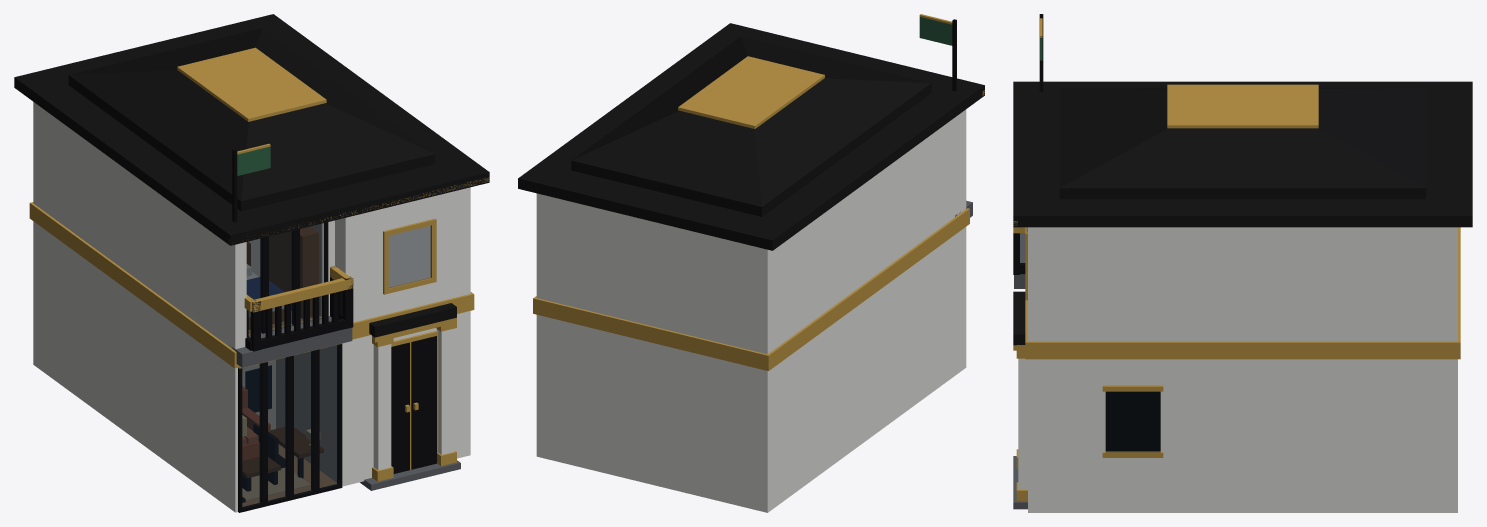
File: rumah-tipe6.glb
3 views of the same model, side by side, from view 1: azimuth 30°, elevation 25°; view 2: azimuth 150°, elevation 25°; view 3: azimuth 270°, elevation 25° (orthographic). The views are drawn at different scales.
Parts seen in each view (by area): view 1: Body_F1_Left, RoofFrustum, RoofSlab1, Body_F2_LB_Left, Body_F2_Right, Body_F1_Right, RoofCapGold, LR_WallR, RoofSlab2, Band_Left, Door_LeafR, FrontGlass_1 (+32 smaller); view 2: Body_F1_Left, RoofFrustum, RoofSlab1, Body_F2_LB_Left, Body_F1_Right, Body_F1_Back, Body_F2_Right, Body_F2_LB_Back, RoofCapGold, Band_Back, RoofSlab2, Band_Left (+3 smaller); view 3: Body_F1_Right, Body_F2_Right, RoofFrustum, RoofSlab1, Band_Right, RoofCapGold, RoofSlab2, SideWin_Backing, SideWin_Glass, Column_1, Canopy.
Part boxes in pixels (x1,y1,x2,y2): Body_F1_Left: (33, 221, 237, 512); RoofFrustum: (69, 27, 434, 201); RoofSlab1: (14, 14, 489, 245); Body_F2_LB_Left: (33, 102, 224, 343); Body_F2_Right: (335, 187, 470, 322); Body_F1_Right: (342, 311, 470, 486); RoofCapGold: (177, 47, 326, 121); LR_WallR: (276, 345, 336, 482); RoofSlab2: (68, 75, 435, 211); Band_Left: (31, 204, 234, 366); Door_LeafR: (411, 336, 436, 469); FrontGlass_1: (268, 357, 287, 501); Body_F1_Left: (765, 227, 966, 512); RoofFrustum: (571, 36, 931, 206); RoofSlab1: (518, 23, 984, 250); Body_F2_LB_Left: (756, 117, 955, 354); Body_F1_Right: (536, 315, 663, 487); Body_F1_Back: (664, 346, 764, 512); Body_F2_Right: (536, 193, 659, 327); Body_F2_LB_Back: (670, 226, 756, 351); RoofCapGold: (678, 56, 824, 128); Band_Back: (533, 297, 769, 370); RoofSlab2: (571, 83, 931, 216); Band_Left: (769, 209, 968, 369); Body_F1_Right: (1028, 359, 1457, 512); Body_F2_Right: (1028, 227, 1457, 341); RoofFrustum: (1059, 87, 1426, 188); RoofSlab1: (1013, 81, 1472, 227); Band_Right: (1028, 341, 1457, 359); RoofCapGold: (1167, 84, 1318, 128); RoofSlab2: (1059, 188, 1426, 199); SideWin_Backing: (1105, 391, 1160, 451); SideWin_Glass: (1106, 392, 1160, 452); Column_1: (1018, 358, 1027, 489); Canopy: (1013, 291, 1025, 345).
Bounding box in the file's own units: 0.694 × 0.925 × 1.
